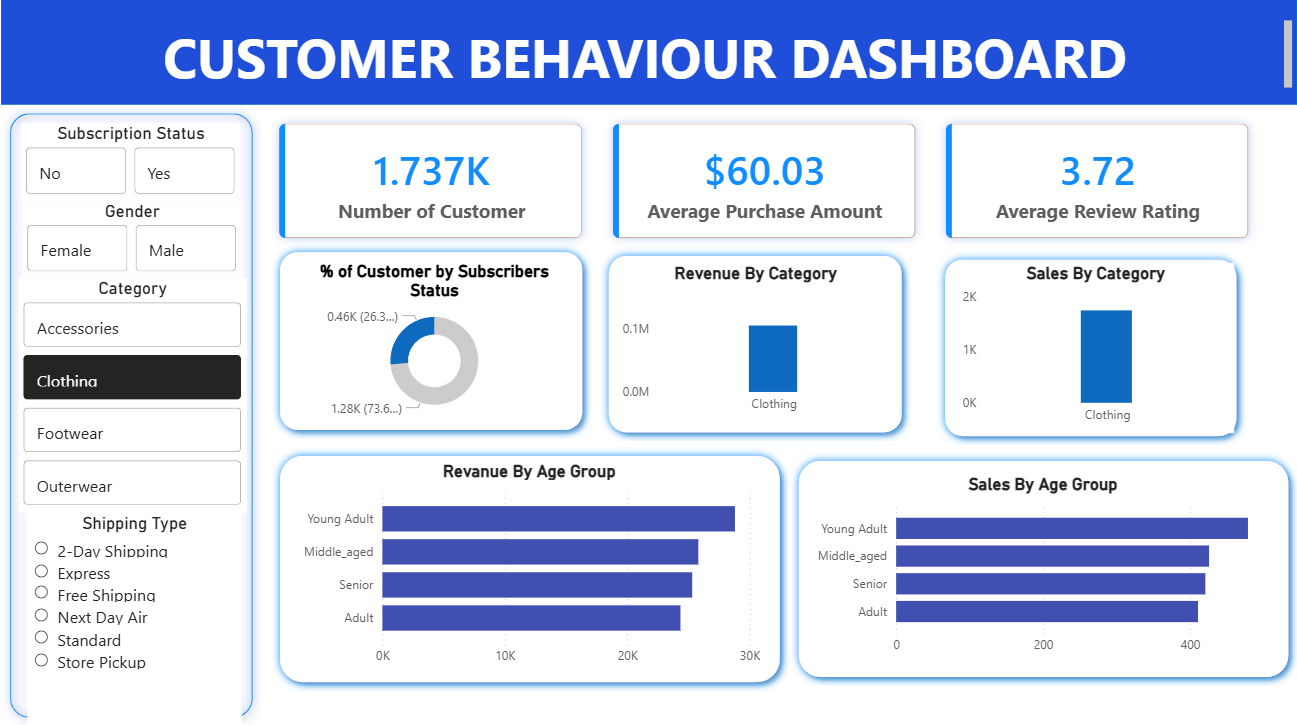

The page's visual inventory and layout, read from the dashboard file:
{"tool":"powerbi","page":{"name":"Page 1","canvas":[1280,720],"ordinal":0},"visuals":[{"type":"cardVisual","fields":{"Data":["public customer.Number of Customer","public customer.Average Purchase Amount","public customer.Average Review Rating"]},"box":[247,96.1,1014.9,169.6],"z":0},{"type":"shape","box":[0,1.4,1280,104.3],"z":1000},{"type":"textbox","box":[0,17.1,1280,78.6],"z":2000},{"type":"shape","box":[267.1,241.7,316.5,193.6],"z":3000},{"type":"donutChart","title":"% of Customer by Subscribers Status","fields":{"Category":["public customer.subscription_status"],"Y":["CountNonNull(public customer.customer_id)"]},"box":[300.5,259.1,256.4,160.2],"z":4000},{"type":"shape","box":[591.6,245.7,307.1,192.3],"z":5000},{"type":"shape","box":[924.1,249.7,305.8,192.3],"z":6000},{"type":"clusteredColumnChart","title":"Revanue By Category","fields":{"Y":["Sum(public customer.purchase_amount)"],"Category":["public customer.category"]},"box":[608.9,261.7,273.7,157.6],"z":7000},{"type":"clusteredColumnChart","title":"Sales By Category","fields":{"Category":["public customer.category"],"Y":["CountNonNull(public customer.customer_id)"]},"box":[944.1,261.7,273.7,168.3],"z":8000},{"type":"shape","box":[0,105,257.5,615],"z":9000},{"type":"advancedSlicerVisual","title":"Subscription Status","fields":{"Values":["public customer.subscription_status"]},"box":[20,122.9,217.1,75.7],"z":10000},{"type":"advancedSlicerVisual","title":"Gender","fields":{"Values":["public customer.gender"]},"box":[17.1,198.6,225.7,77.1],"z":11000},{"type":"advancedSlicerVisual","title":"Category","fields":{"Values":["public customer.category"]},"box":[17.1,274.3,225.7,234.3],"z":12000},{"type":"listSlicer","title":"Shipping Type","fields":{"Values":["public customer.shipping_type"]},"box":[25.7,508.6,211.4,211.4],"z":13000},{"type":"shape","box":[267.1,442.9,511.4,241.4],"z":15000},{"type":"clusteredBarChart","title":"Revanue By Age Group","fields":{"Y":["Sum(public customer.purchase_amount)"],"Category":["public customer.age_group"]},"box":[288.6,457.1,465.7,211.4],"z":15001},{"type":"shape","box":[778.6,448.6,501.4,231.4],"z":15002},{"type":"clusteredBarChart","title":"Sales By Age Group","fields":{"Y":["CountNonNull(public customer.customer_id)"],"Category":["public customer.age_group"]},"box":[795.7,470,465.7,187.1],"z":15003}]}

Visuals, with their boxes in screenshot pixels (x1, y1, x2, y2), scaled from the page's 1280x720 canvas onto the 1297x725 screenshot:
cardVisual - public customer.Number of Customer x public customer.Average Purchase Amount: detection(250, 97, 1279, 268)
shape: detection(0, 1, 1296, 106)
textbox: detection(0, 17, 1296, 96)
shape: detection(271, 243, 591, 438)
"% of Customer by Subscribers Status" donutChart: detection(304, 261, 564, 422)
shape: detection(599, 247, 911, 441)
shape: detection(936, 251, 1246, 445)
"Revanue By Category" clusteredColumnChart: detection(617, 264, 894, 422)
"Sales By Category" clusteredColumnChart: detection(957, 264, 1234, 433)
shape: detection(0, 106, 261, 724)
"Subscription Status" advancedSlicerVisual: detection(20, 124, 240, 200)
"Gender" advancedSlicerVisual: detection(17, 200, 246, 278)
"Category" advancedSlicerVisual: detection(17, 276, 246, 512)
"Shipping Type" listSlicer: detection(26, 512, 240, 724)
shape: detection(271, 446, 789, 689)
"Revanue By Age Group" clusteredBarChart: detection(292, 460, 764, 673)
shape: detection(789, 452, 1296, 685)
"Sales By Age Group" clusteredBarChart: detection(806, 473, 1278, 662)
